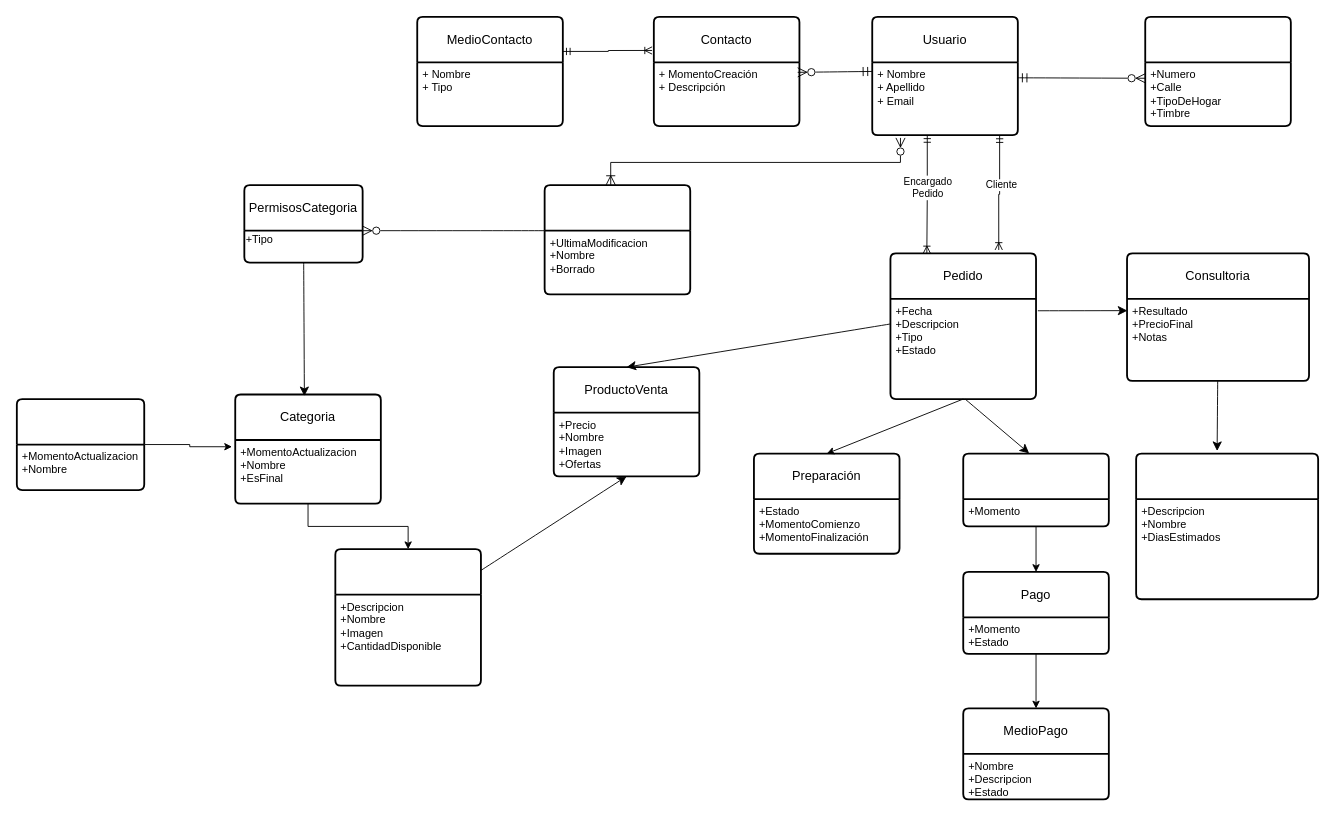
This 1334x815 diagram has some shape labels left out. The box of each missing label's shape, as (x1, y1, x2, y2) in pixels:
CategoriaRaiz: (15, 398, 145, 490)
Direccion: (1144, 15, 1291, 126)
ProductoPersonalizado: (1135, 452, 1319, 600)
ProductoStock: (334, 548, 481, 686)
Rol: (543, 184, 691, 295)
SolicitudPago: (962, 452, 1109, 527)
